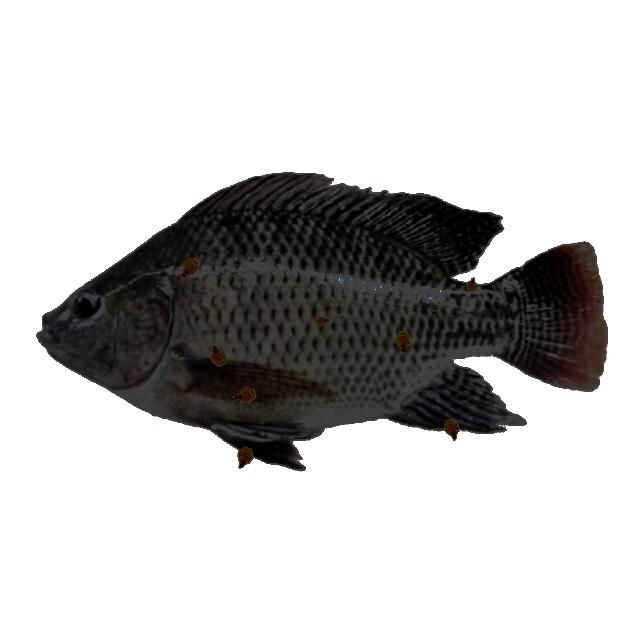Parasitic Disease: (38, 173, 605, 469)
